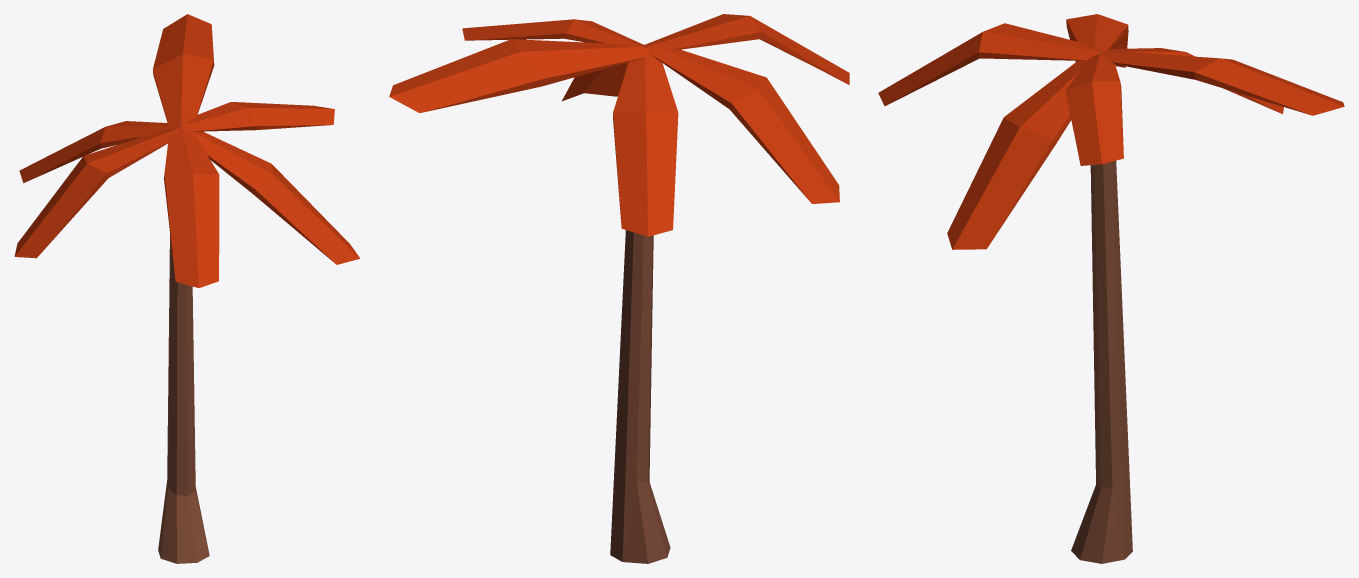
The model's file is Tree_39_summer_red_mat.fbx.
3 views of the same model, side by side, from view 1: azimuth 30°, elevation 25°; view 2: azimuth 150°, elevation 25°; view 3: azimuth 270°, elevation 25° (orthographic). The views are drawn at different scales.
Visible parts, largest first — view 1: Tree_39_summer_red_mat; view 2: Tree_39_summer_red_mat; view 3: Tree_39_summer_red_mat.
Part boxes in pixels (bbox=[...]): Tree_39_summer_red_mat: bbox=[14, 14, 359, 563]; Tree_39_summer_red_mat: bbox=[389, 14, 849, 563]; Tree_39_summer_red_mat: bbox=[878, 14, 1344, 563].
Size of the model in its own units: 152 by 204 by 166.
